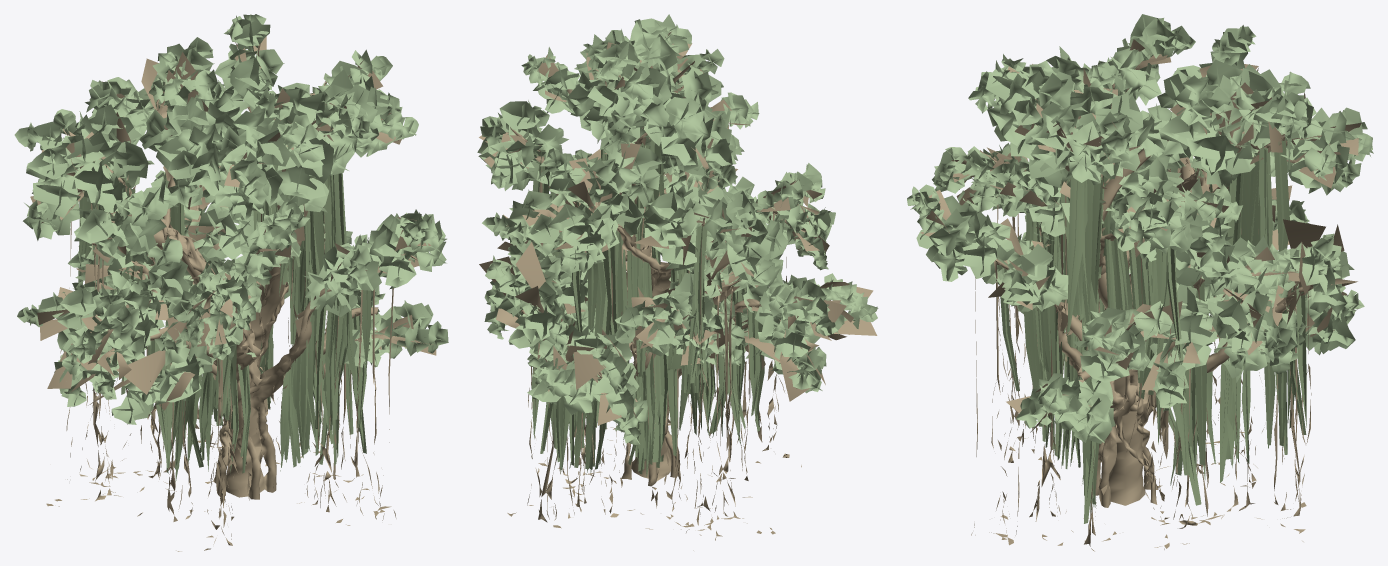
The model's file is banyan.glb.
3 renders of one model, left to right at view 1: azimuth 30°, elevation 25°; view 2: azimuth 150°, elevation 25°; view 3: azimuth 270°, elevation 25°, orthographic. The views are drawn at different scales.
Size of the model in its own units: 17.75 by 20.26 by 17.47.
